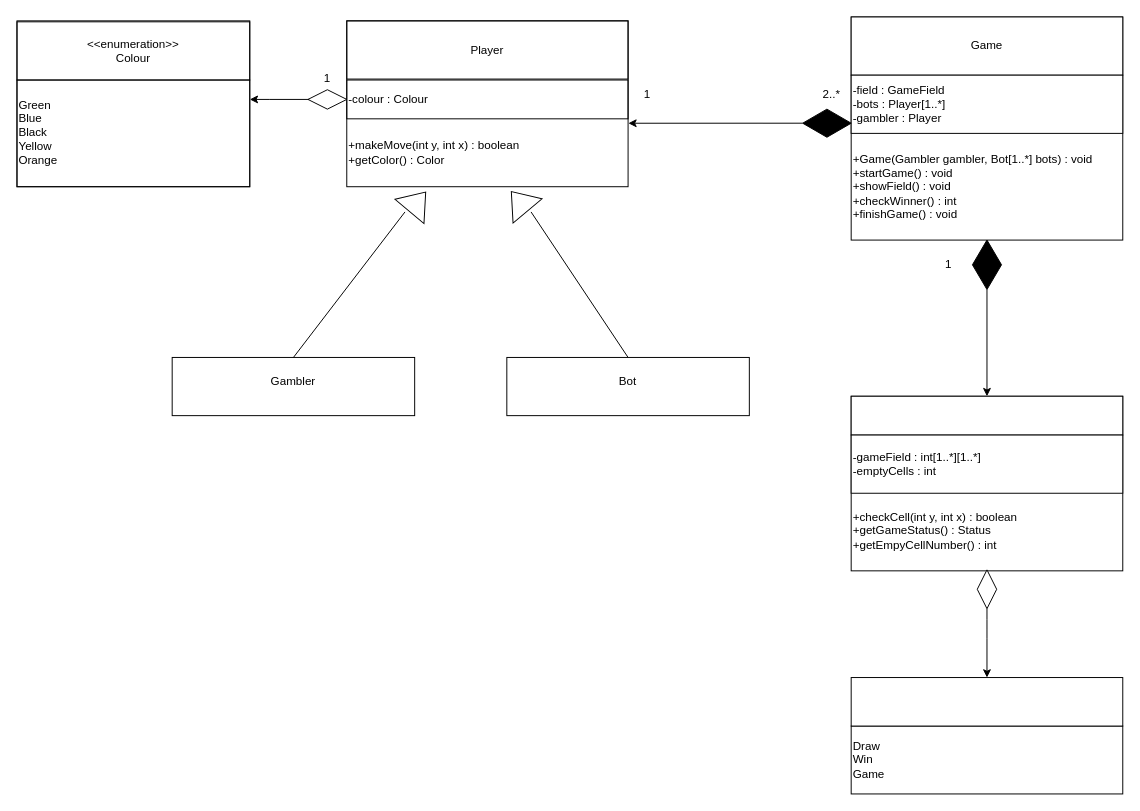
Some shapes in this 1140 by 811 pixel diagram are drawn without their labels. Here are the shapes that lost their labels. From the top down, the box of each, then its label:
(850, 395, 1123, 435): GameField
(850, 677, 1123, 726): <<enumeration>> Status
